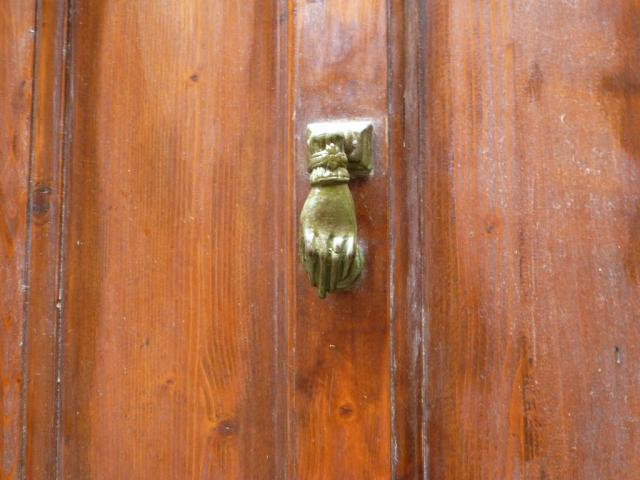Door-handle: (298, 122, 372, 300)
